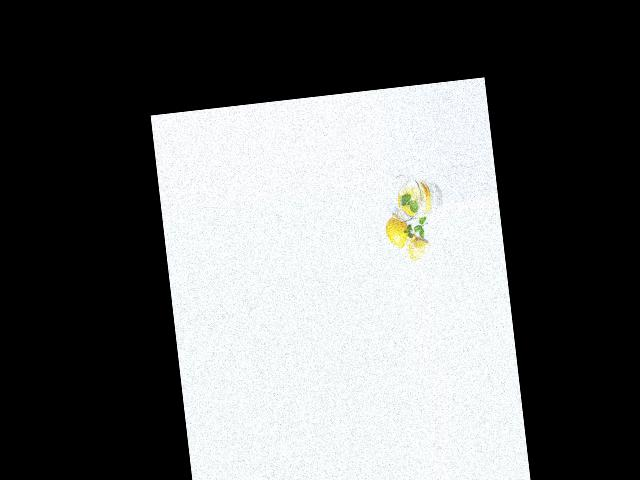lemon: (382, 208, 413, 249)
